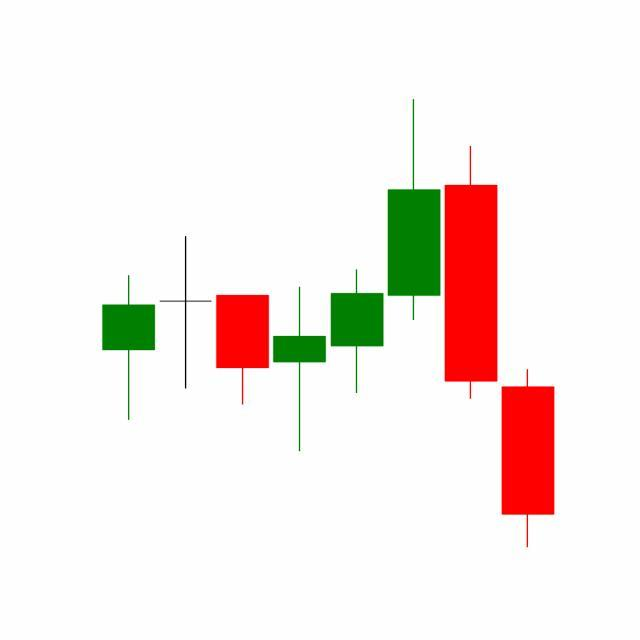Three Line Strike: (271, 99, 501, 457)
